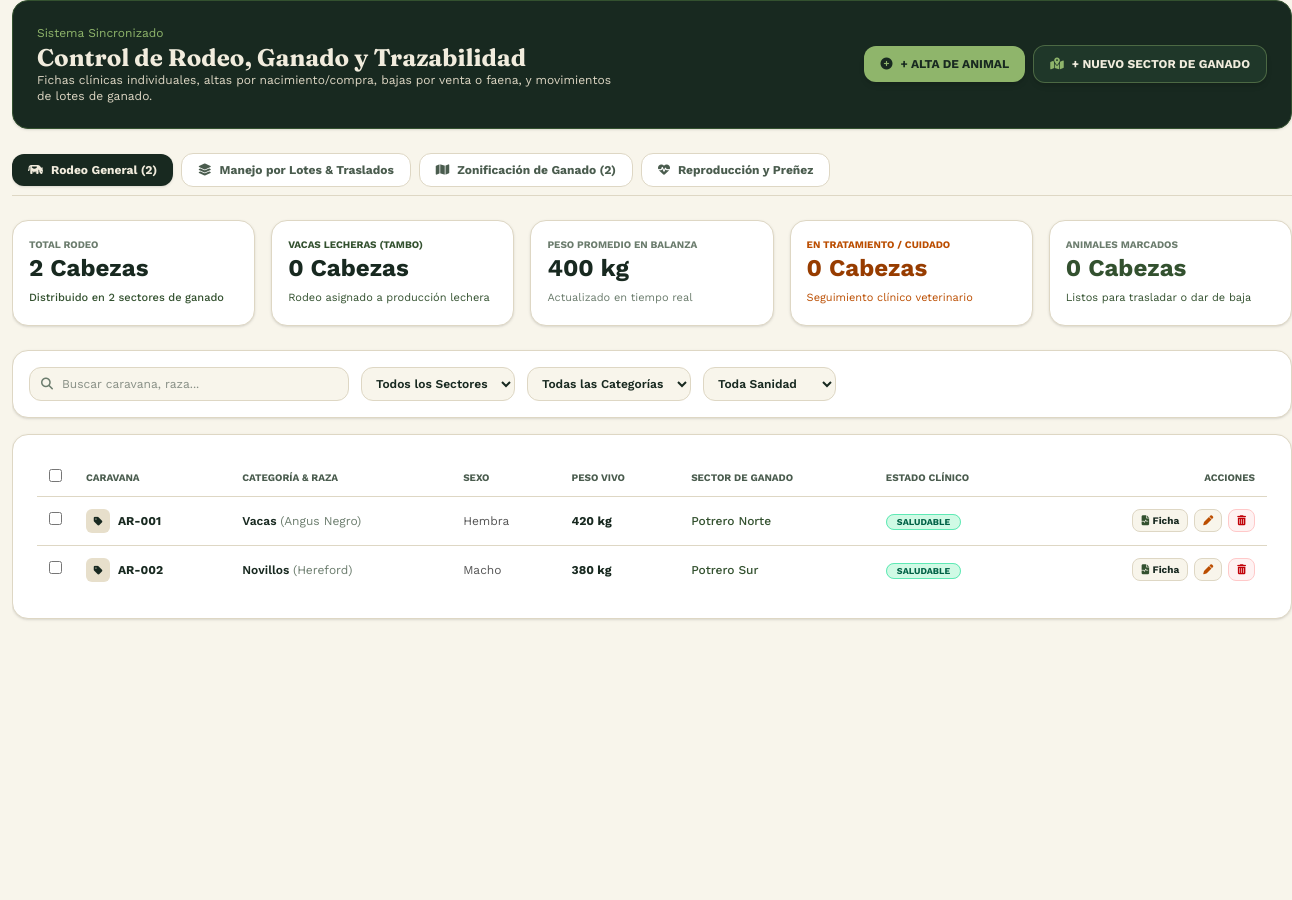
Test case: Vista de Gestión de Ganado y Rodeo (GanadoView.jsx) › seleccionar todos marca y desmarca el conjunto completo del rodeo
Expected: the text "AR-001" is shown, 118,512 -> 161,528
Click the checkbox titled "Seleccionar todos". click: coordinates (56, 476)
box: 49,469 -> 62,482
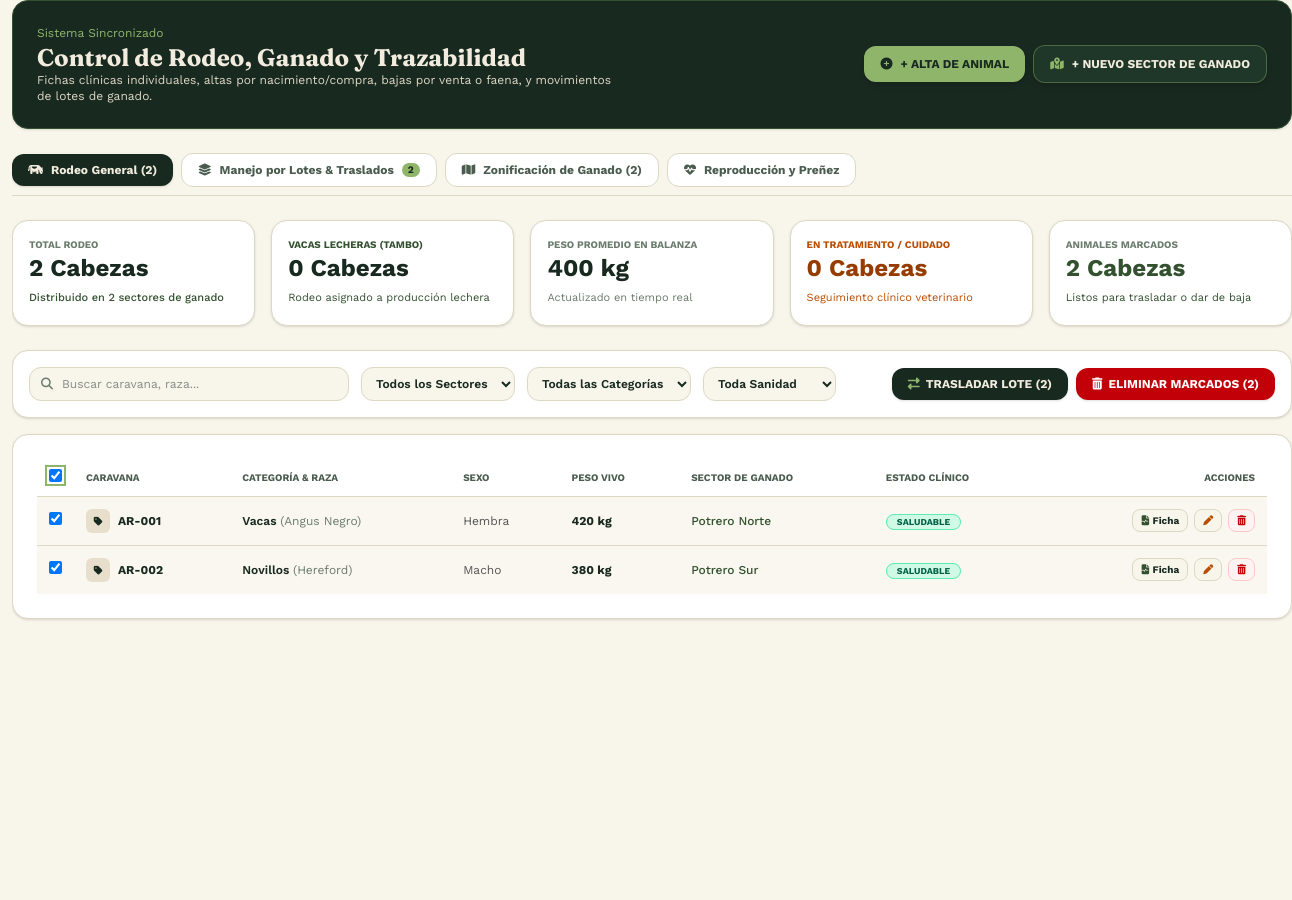
Expected: the button "Eliminar Marcados (2)" is shown, 1076,368 -> 1275,400
Click the checkbox titled "Seleccionar todos". click: coordinates (56, 476)
box: 49,469 -> 62,482
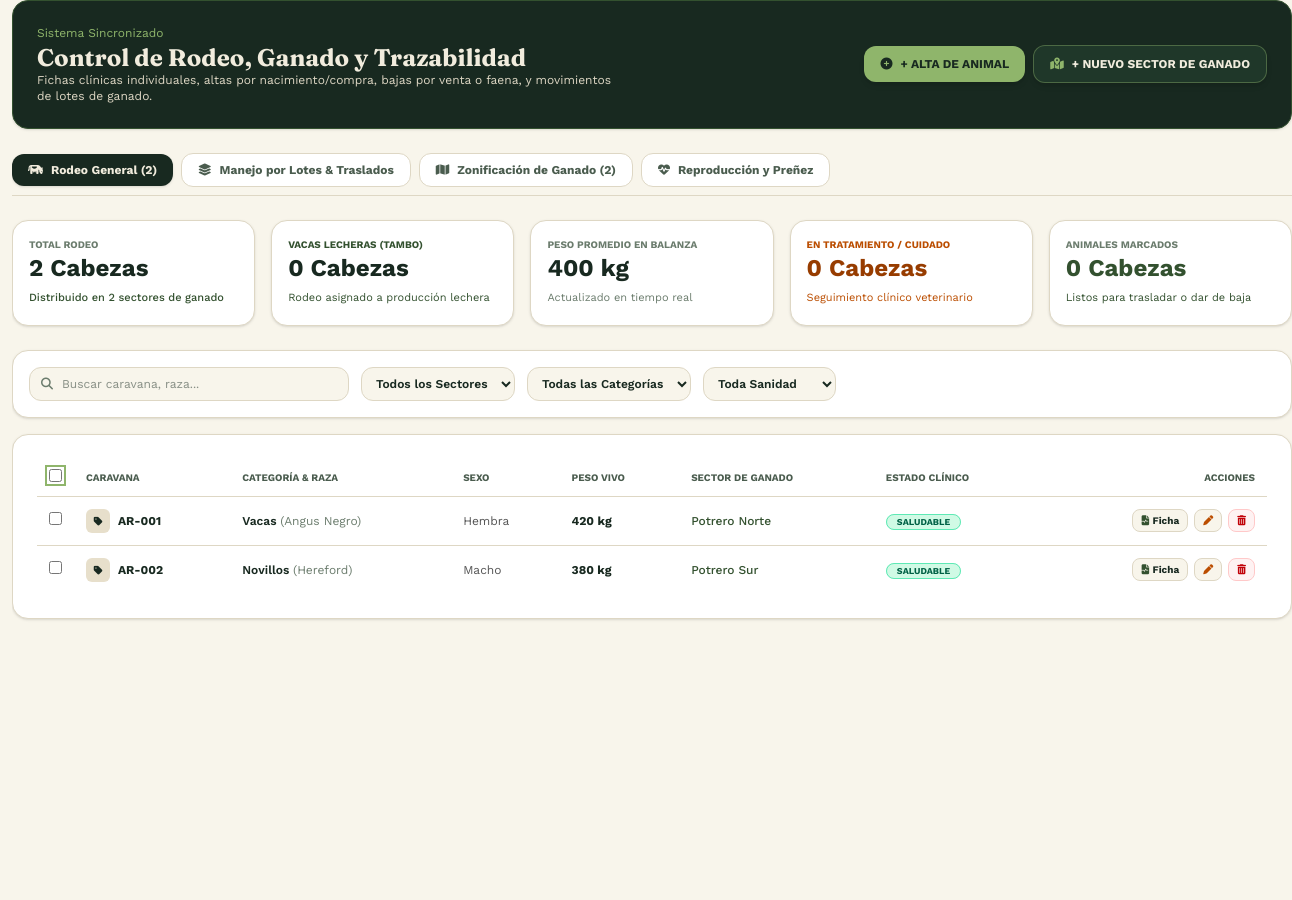
Expected: the button "Eliminar Marcados" is gone
